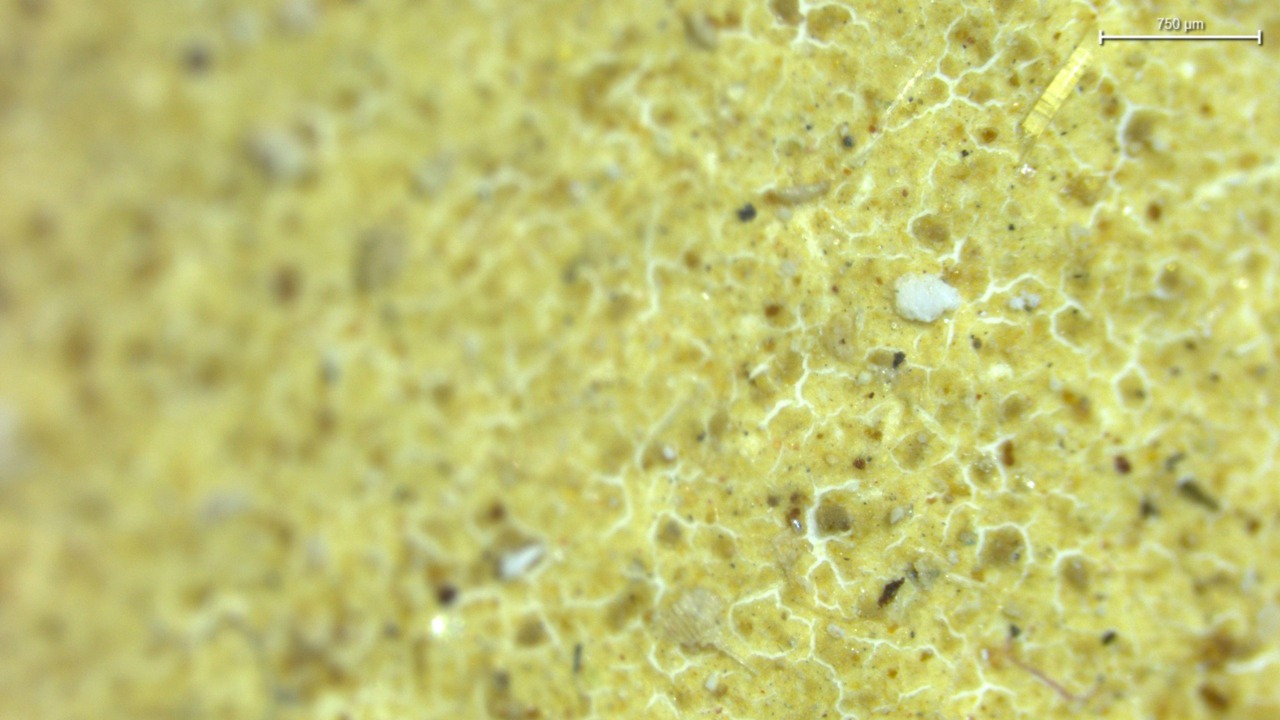microplastic_fragment: (896, 274, 961, 322)
